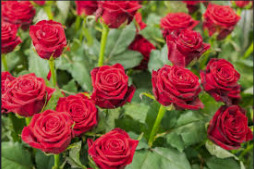RedRose: (87, 61, 136, 112), (23, 110, 76, 157), (153, 60, 200, 110), (3, 71, 55, 114), (26, 16, 73, 59), (89, 127, 138, 168)
